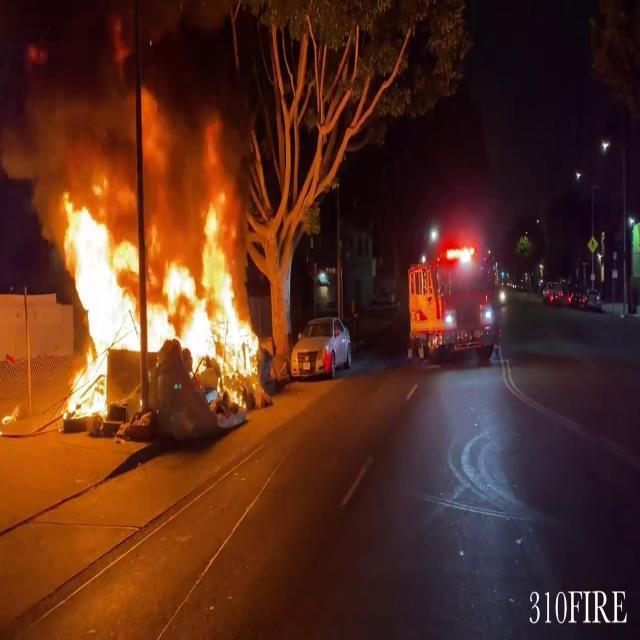Fire: (52, 180, 262, 424)
